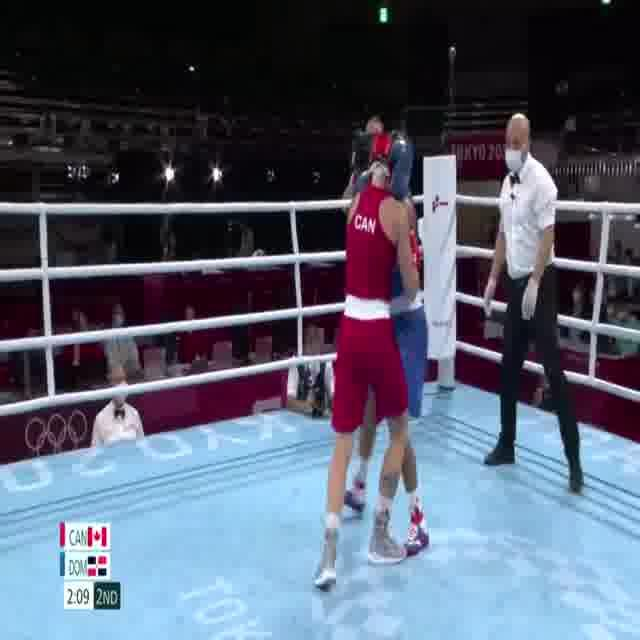blue-player: (332, 125, 432, 560)
red-player: (310, 110, 424, 593)
referee: (478, 109, 588, 495)
